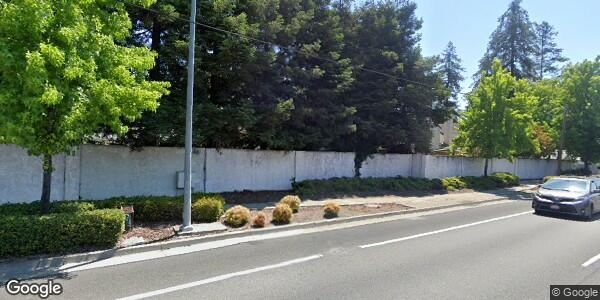Steel_Pole: (178, 1, 198, 232)
